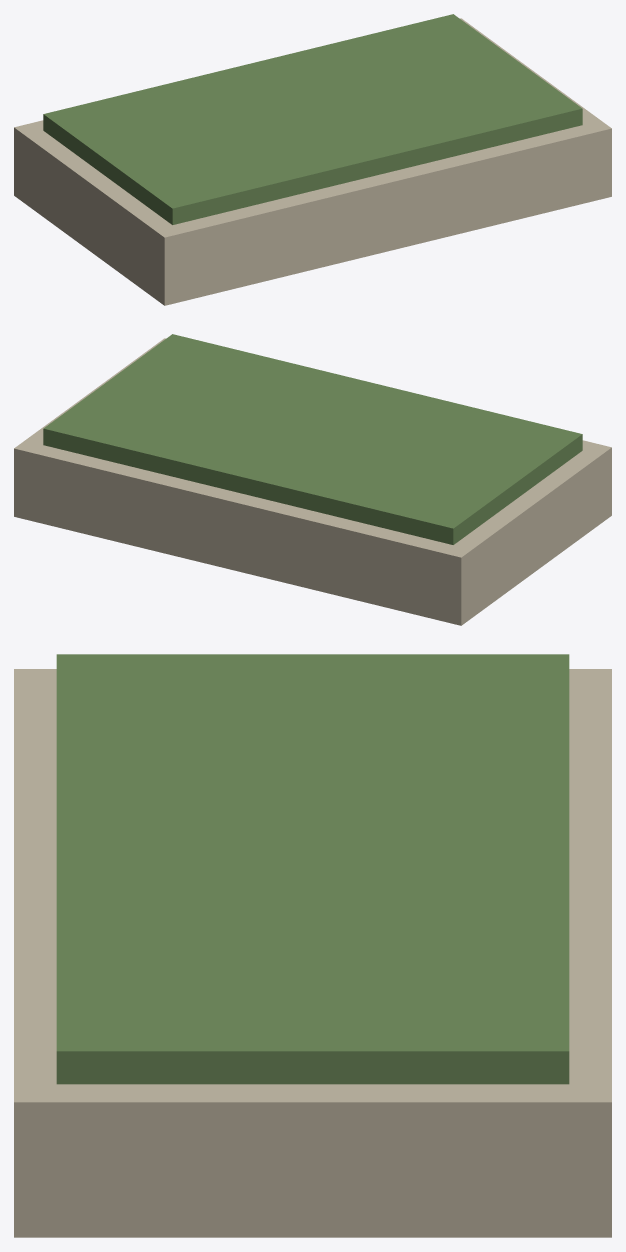
File: flowers_lod.glb
3 views of the same model, one above another, from view 1: azimuth 30°, elevation 25°; view 2: azimuth 150°, elevation 25°; view 3: azimuth 270°, elevation 25° (orthographic). The views are drawn at different scales.
Parts seen in each view (by area): view 1: flowers_Plant_Soil, flowers_Flowerbed; view 2: flowers_Plant_Soil, flowers_Flowerbed; view 3: flowers_Plant_Soil, flowers_Flowerbed.
Part boxes in pixels (bbox=[...]): flowers_Plant_Soil: bbox=[43, 14, 582, 224]; flowers_Flowerbed: bbox=[14, 18, 611, 305]; flowers_Plant_Soil: bbox=[43, 334, 582, 544]; flowers_Flowerbed: bbox=[14, 338, 611, 625]; flowers_Plant_Soil: bbox=[56, 654, 569, 1084]; flowers_Flowerbed: bbox=[14, 669, 611, 1237].
Bounding box in the file's own units: 2.4 × 0.435 × 1.4.
